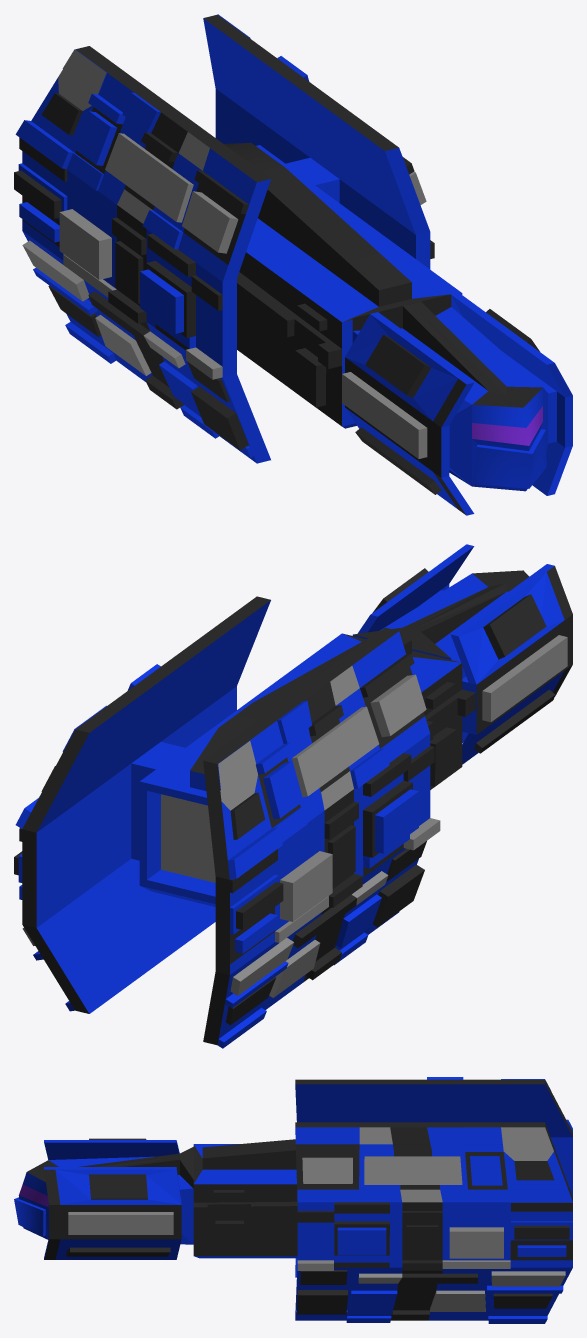
File: Capital Ship.FBX
3 renders of one model, top to bottom at view 1: azimuth 30°, elevation 25°; view 2: azimuth 150°, elevation 25°; view 3: azimuth 270°, elevation 25°, orthographic. The views are drawn at different scales.
Visible parts, largest first — view 1: Capital Ship; view 2: Capital Ship; view 3: Capital Ship.
Part boxes in pixels (box(x1,y1,x2,y2)): Capital Ship: box(14, 14, 572, 515); Capital Ship: box(14, 544, 572, 1048); Capital Ship: box(14, 1077, 572, 1323).
Bounding box in the file's own units: 36.65 × 40.98 × 106.
